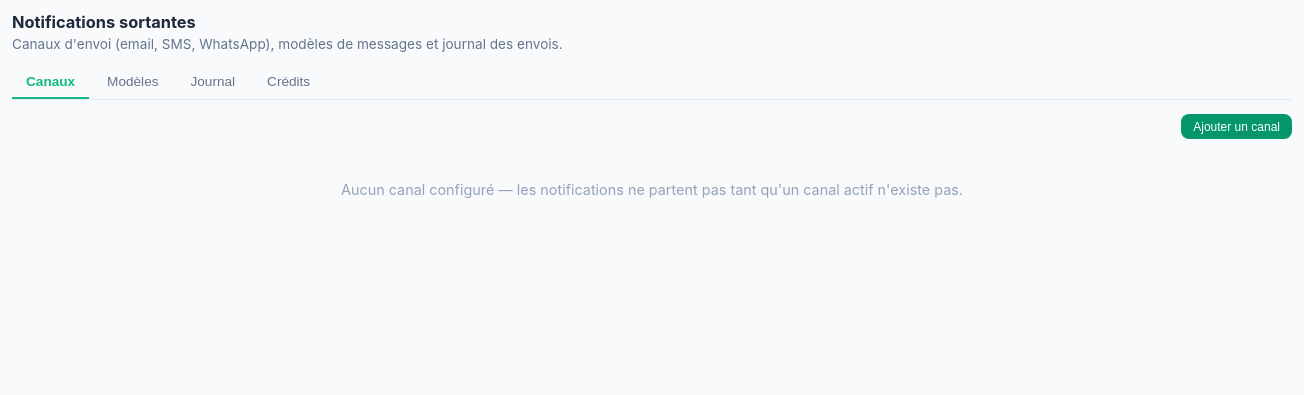
Test: NotificationSettingsPanel — credits (RC-7E) › shows per-channel balances after switching to the credits tab
This screenshot has width=1304, height=395.
Click the button with class "ntf-tab" showing "Crédits". click: (289, 82)
box: [253,66,324,99]
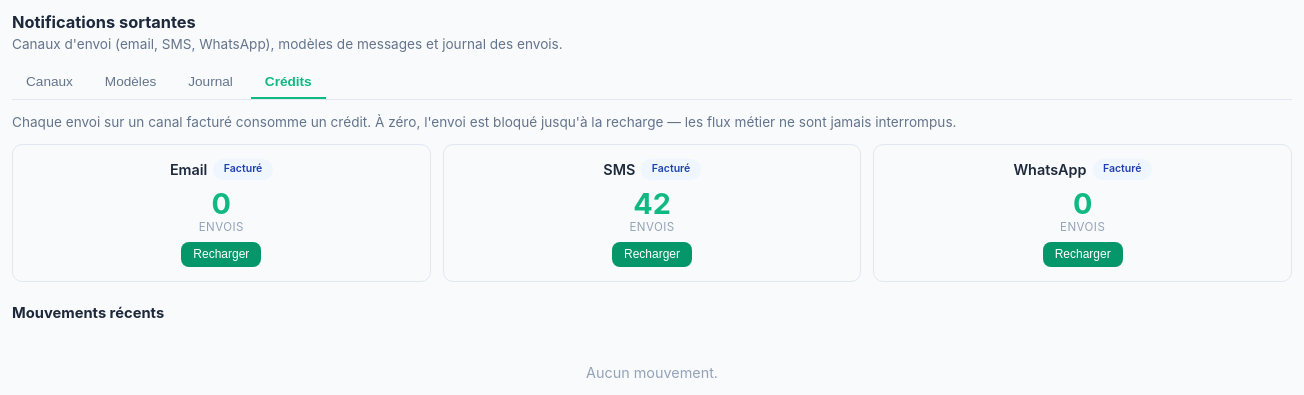
Expected: the text "42" is shown, [633,186,671,221]
Expected: the text "facturé" is shown, [12,114,956,130]
